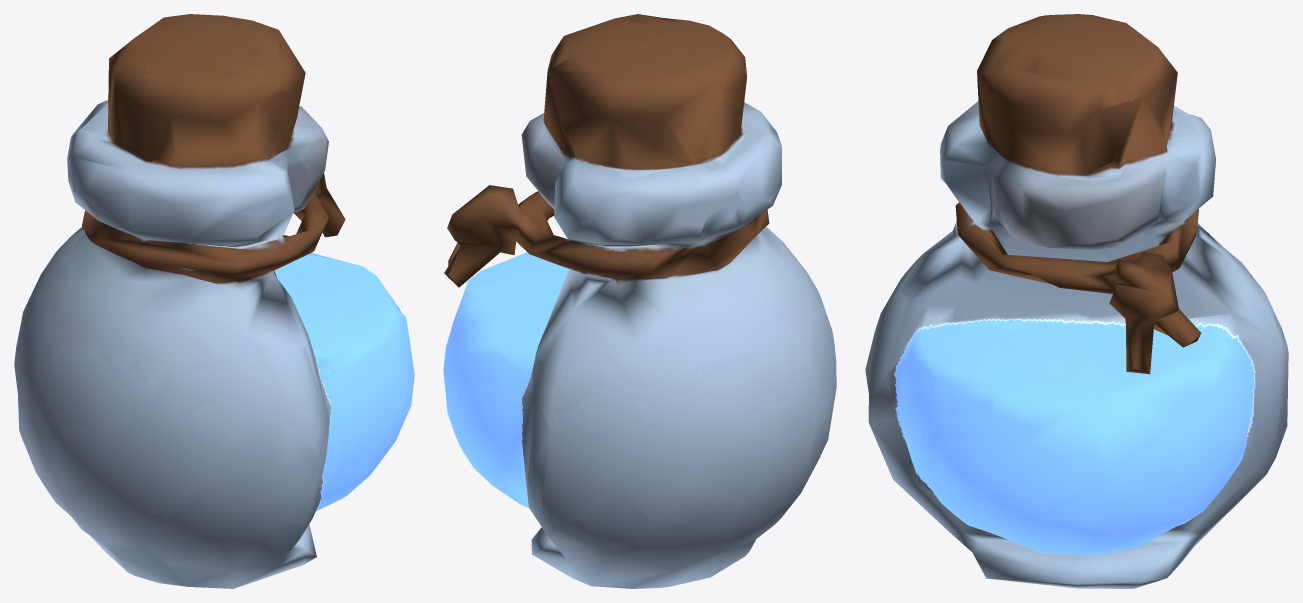
Rendered from flask_mana-DPr5jLMx.glb.
The picture shows the model from 3 angles, left to right: view 1: azimuth 30°, elevation 25°; view 2: azimuth 150°, elevation 25°; view 3: azimuth 270°, elevation 25°; orthographic projection.
Visible parts, largest first — view 1: tripo_node_ef1bdf69-46a9-4cc0-95cd-b157eafb1047; view 2: tripo_node_ef1bdf69-46a9-4cc0-95cd-b157eafb1047; view 3: tripo_node_ef1bdf69-46a9-4cc0-95cd-b157eafb1047.
Part boxes in pixels (x1,y1,x2,y2): tripo_node_ef1bdf69-46a9-4cc0-95cd-b157eafb1047: (14,14,414,588); tripo_node_ef1bdf69-46a9-4cc0-95cd-b157eafb1047: (443,14,836,588); tripo_node_ef1bdf69-46a9-4cc0-95cd-b157eafb1047: (865,14,1288,588).
Size of the model in its own units: 0.7194 by 1 by 0.7524.
1 material, 1 textured.
